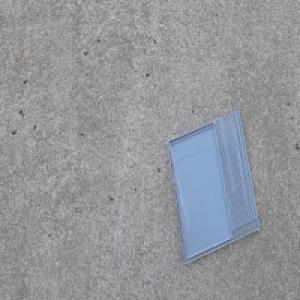PlasticPart: (166, 108, 261, 266)
